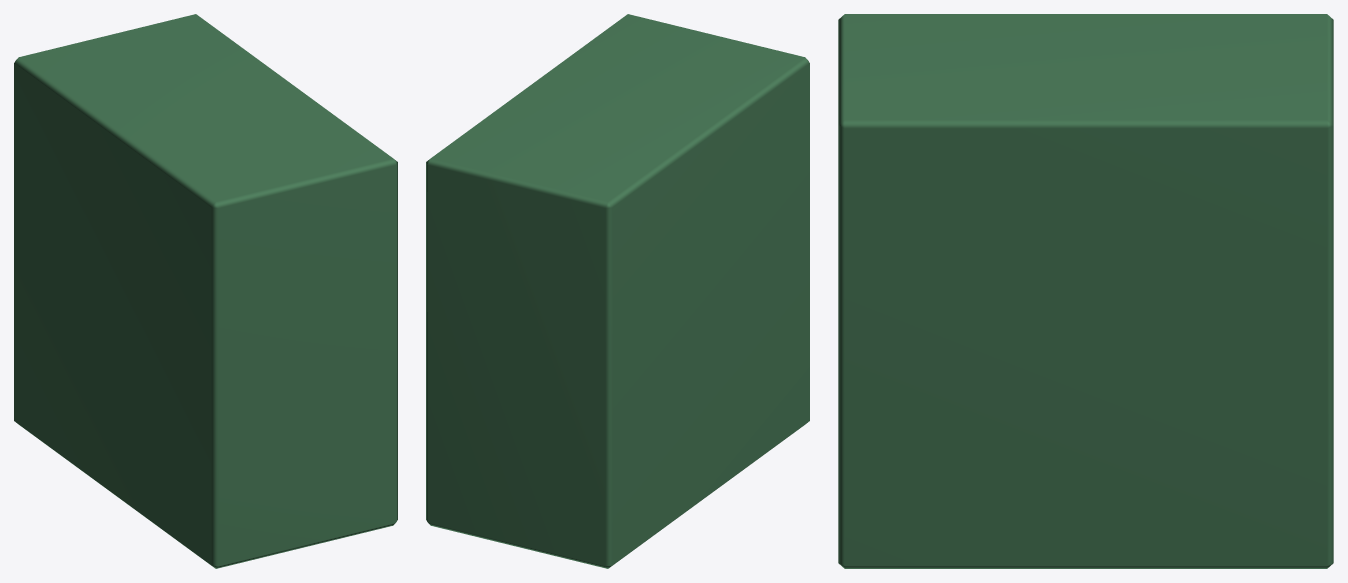
File: Household_Products_02.fbx
3 views of the same model, side by side, from view 1: azimuth 30°, elevation 25°; view 2: azimuth 150°, elevation 25°; view 3: azimuth 270°, elevation 25° (orthographic). The views are drawn at different scales.
Parts seen in each view (by area): view 1: Household_Products_02; view 2: Household_Products_02; view 3: Household_Products_02.
Part boxes in pixels (left/top/right/bottom): Household_Products_02: left=14, top=14, right=397, bottom=568; Household_Products_02: left=426, top=14, right=809, bottom=568; Household_Products_02: left=838, top=14, right=1333, bottom=568.
Bounding box in the file's own units: 15.17 × 28.51 × 28.51.
